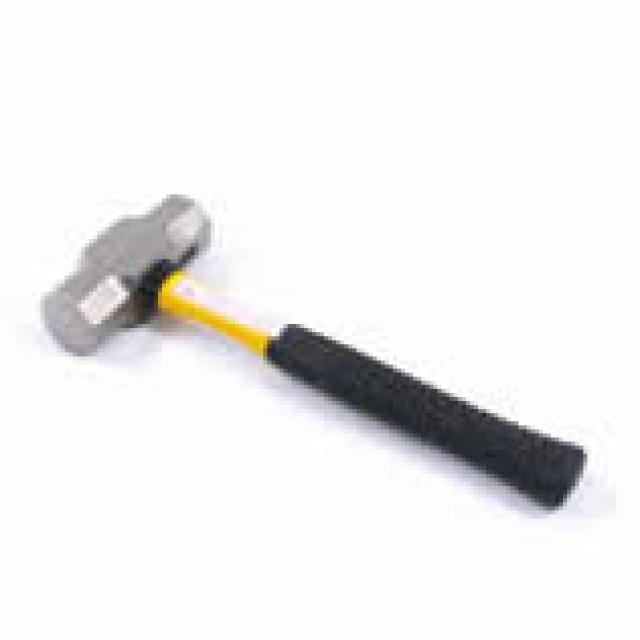hammer: (28, 138, 640, 543)
